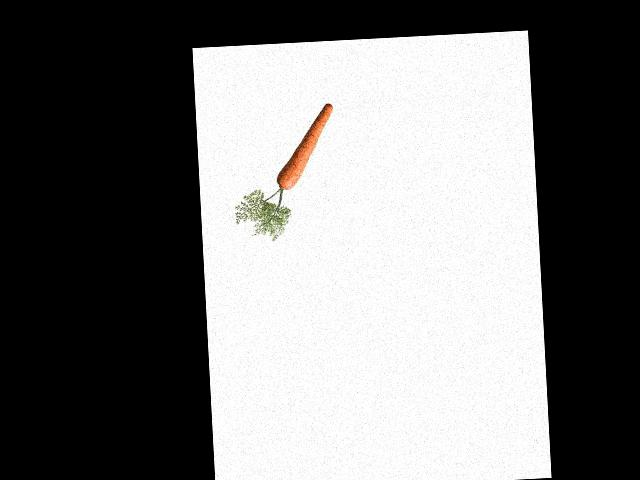carrot: (270, 101, 336, 192)
